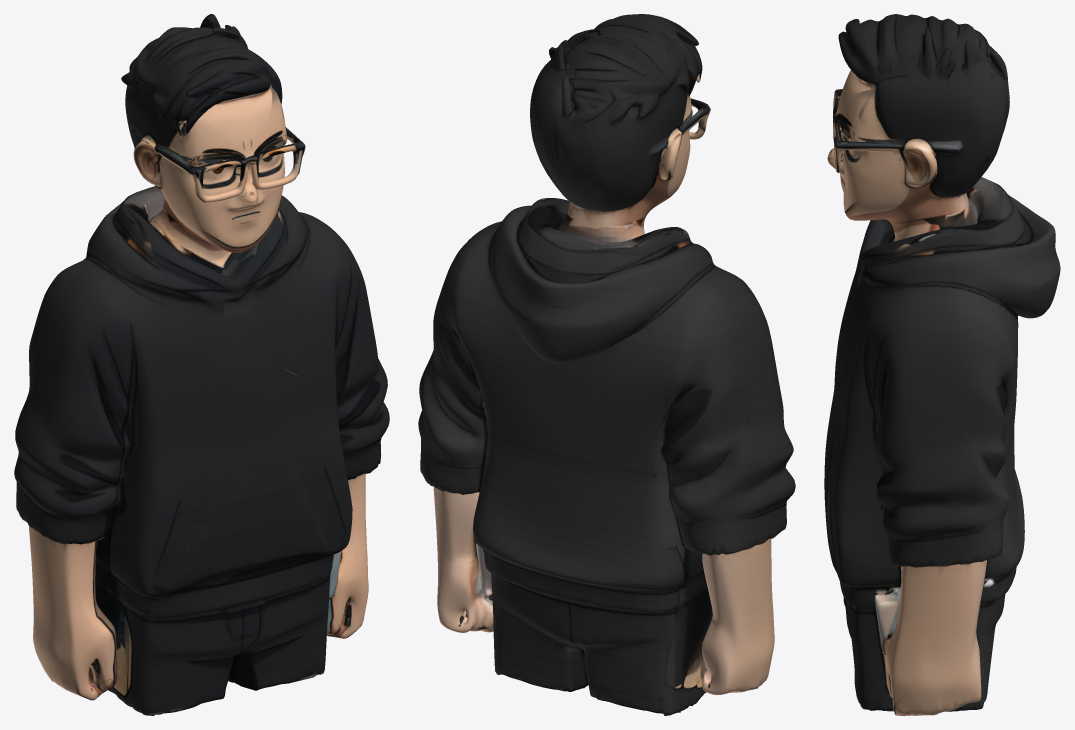
Rendered from alex.glb.
The picture shows the model from 3 angles, left to right: view 1: azimuth 30°, elevation 25°; view 2: azimuth 150°, elevation 25°; view 3: azimuth 270°, elevation 25°; orthographic projection.
Visible parts, largest first — view 1: geometry_0; view 2: geometry_0; view 3: geometry_0.
Part boxes in pixels (left/top/right/bottom): geometry_0: left=14, top=14, right=389, bottom=715; geometry_0: left=418, top=14, right=795, bottom=715; geometry_0: left=824, top=14, right=1060, bottom=715.
Size of the model in its own units: 1.11 by 1.91 by 0.6347.
1 material, 1 textured.
